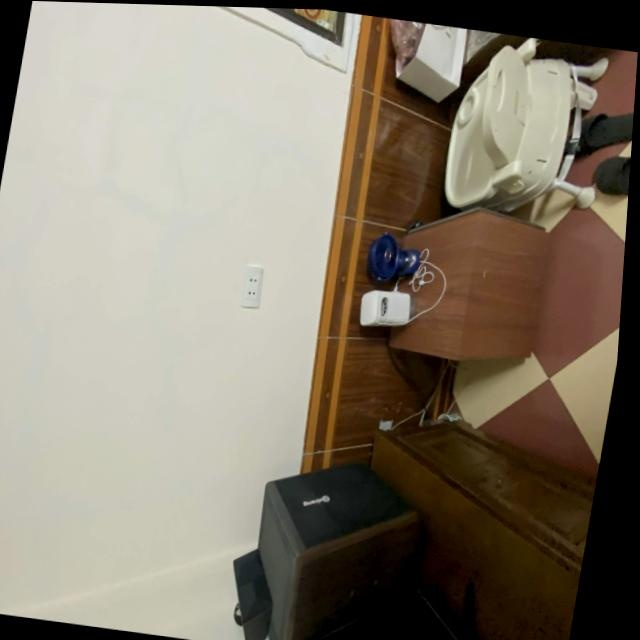outlet: (238, 264, 265, 308)
